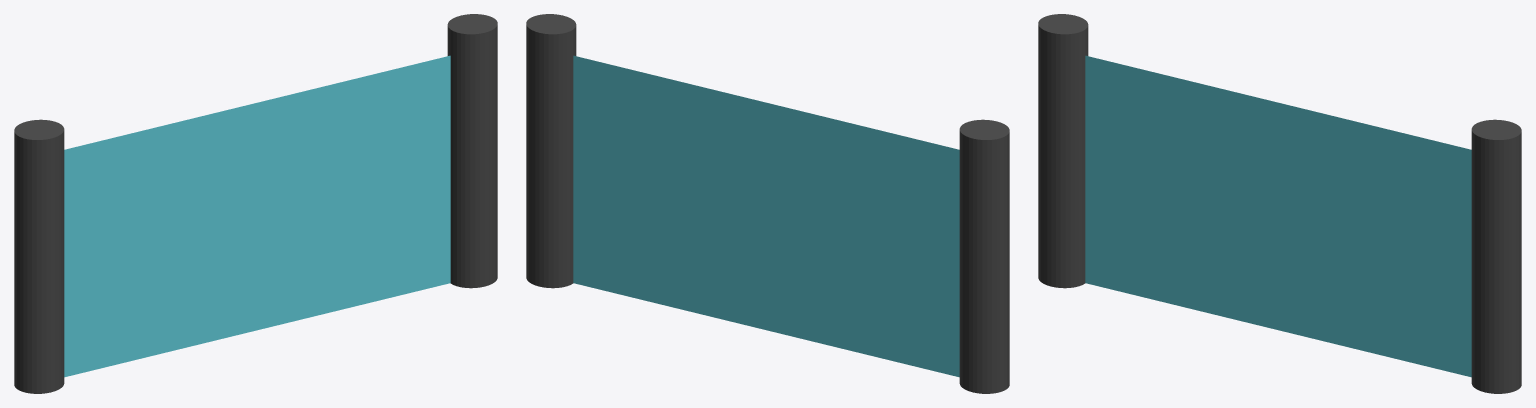
Rendered from kap.fbx.
3 views of the same model, side by side, from view 1: azimuth 30°, elevation 25°; view 2: azimuth 150°, elevation 25°; view 3: azimuth 330°, elevation 25° (orthographic).
Visible parts, largest first — view 1: Plane, Cylinder, Cylinder.001; view 2: Plane, Cylinder, Cylinder.001; view 3: Plane, Cylinder.001, Cylinder.
Boxes of the visible parts, x1,y1,x2,y2 form: Plane: [64, 55, 450, 377]; Cylinder: [14, 119, 64, 393]; Cylinder.001: [447, 14, 497, 288]; Plane: [573, 55, 959, 377]; Cylinder: [959, 119, 1009, 393]; Cylinder.001: [526, 14, 576, 288]; Plane: [1085, 55, 1471, 377]; Cylinder.001: [1471, 119, 1521, 393]; Cylinder: [1038, 14, 1088, 288].
Size of the model in its own units: 1306 by 663 by 112.
